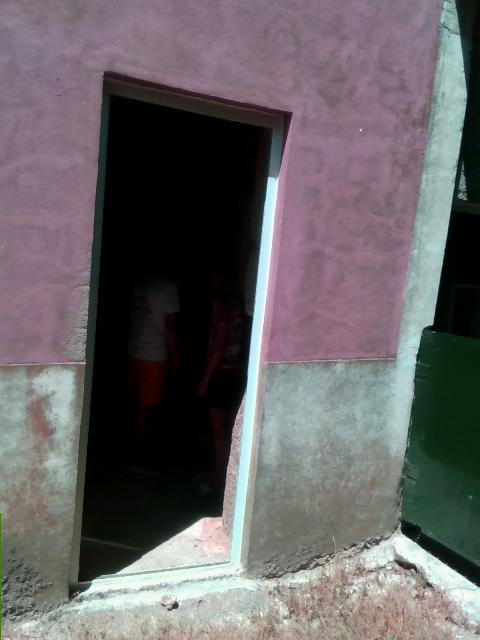open_door: (66, 69, 294, 600)
